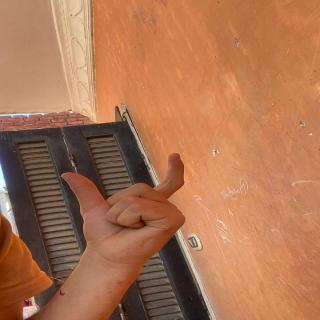NOON: (56, 150, 218, 245)
